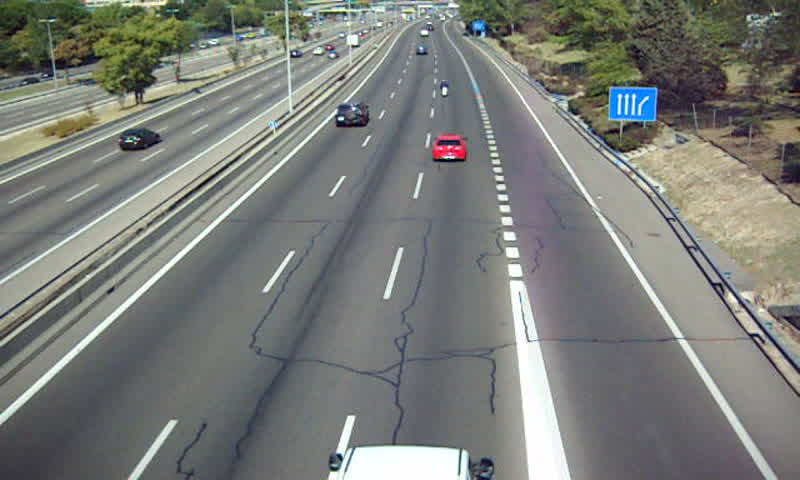car: (432, 135, 468, 162), (335, 102, 370, 126)
motorcycle: (439, 80, 451, 98)
